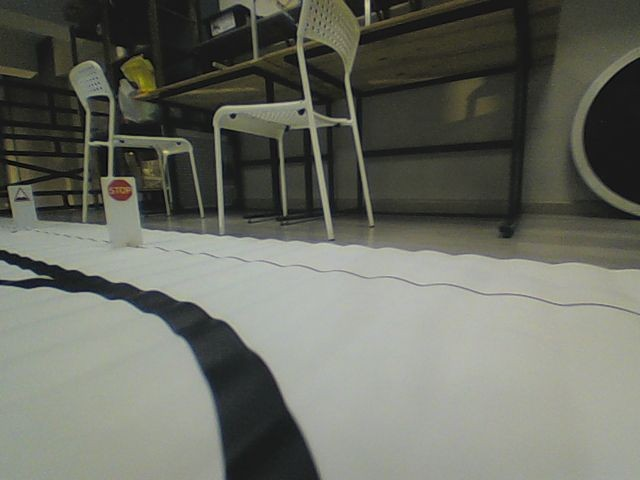Nerov: (13, 186, 31, 204)
Stop: (107, 179, 133, 202)
